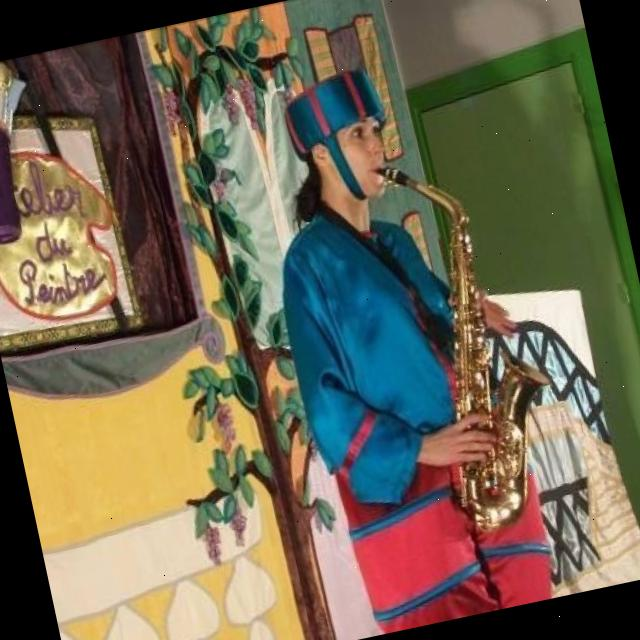saxophone: (363, 135, 582, 546)
